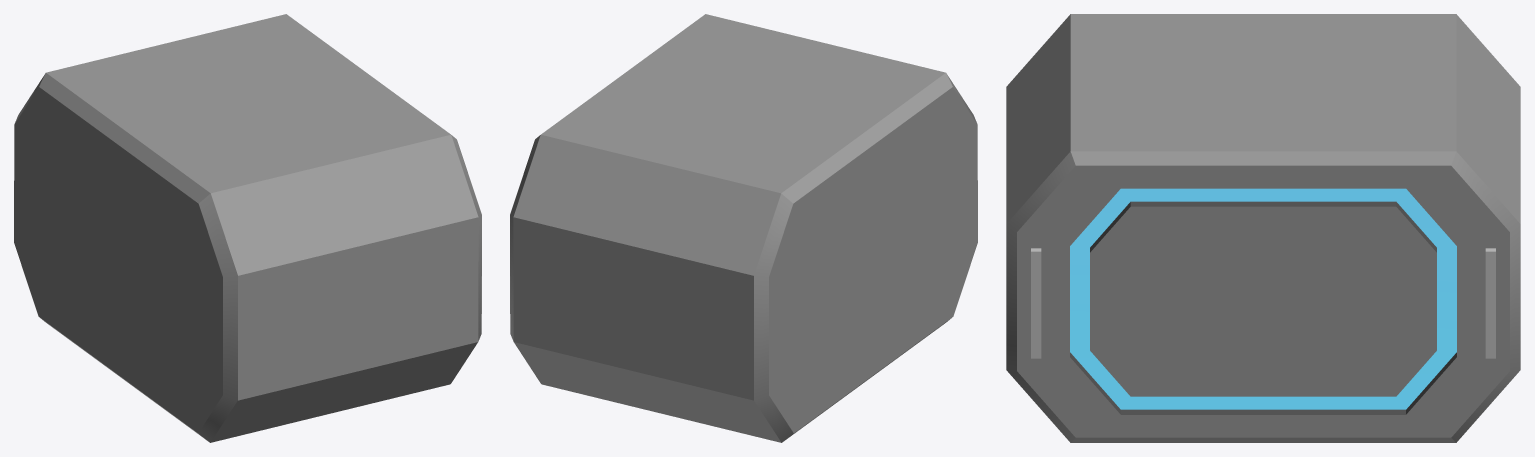
The model's file is SM_SG02_Battery.fbx.
3 views of the same model, side by side, from view 1: azimuth 30°, elevation 25°; view 2: azimuth 150°, elevation 25°; view 3: azimuth 270°, elevation 25° (orthographic). The views are drawn at different scales.
Parts seen in each view (by area): view 1: SM_SG02_Battery; view 2: SM_SG02_Battery; view 3: SM_SG02_Battery.
Boxes of the visible parts, x1,y1,x2,y2 form: SM_SG02_Battery: (14, 14, 481, 442); SM_SG02_Battery: (510, 14, 977, 442); SM_SG02_Battery: (1006, 14, 1520, 442).
Bounding box in the file's own units: 2.41 × 2.18 × 3.47.
